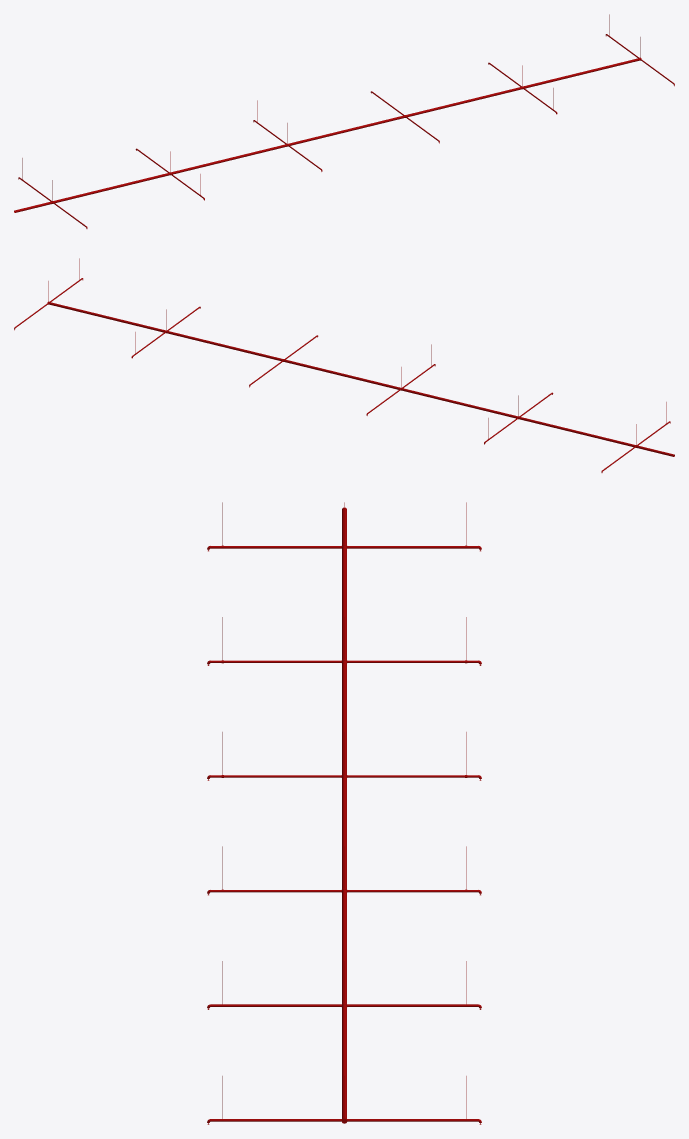
File: SprinklersPipe.fbx
3 renders of one model, top to bottom at view 1: azimuth 30°, elevation 25°; view 2: azimuth 150°, elevation 25°; view 3: azimuth 270°, elevation 25°, orthographic. The views are drawn at different scales.
Visible parts, largest first — view 1: SprinklersPipe; view 2: SprinklersPipe; view 3: SprinklersPipe.
Part boxes in pixels (box(x1,y1,x2,y2)): SprinklersPipe: box(14, 14, 674, 228); SprinklersPipe: box(14, 258, 674, 472); SprinklersPipe: box(207, 502, 481, 1124).
Size of the model in its own units: 2113 by 78.56 by 402.
